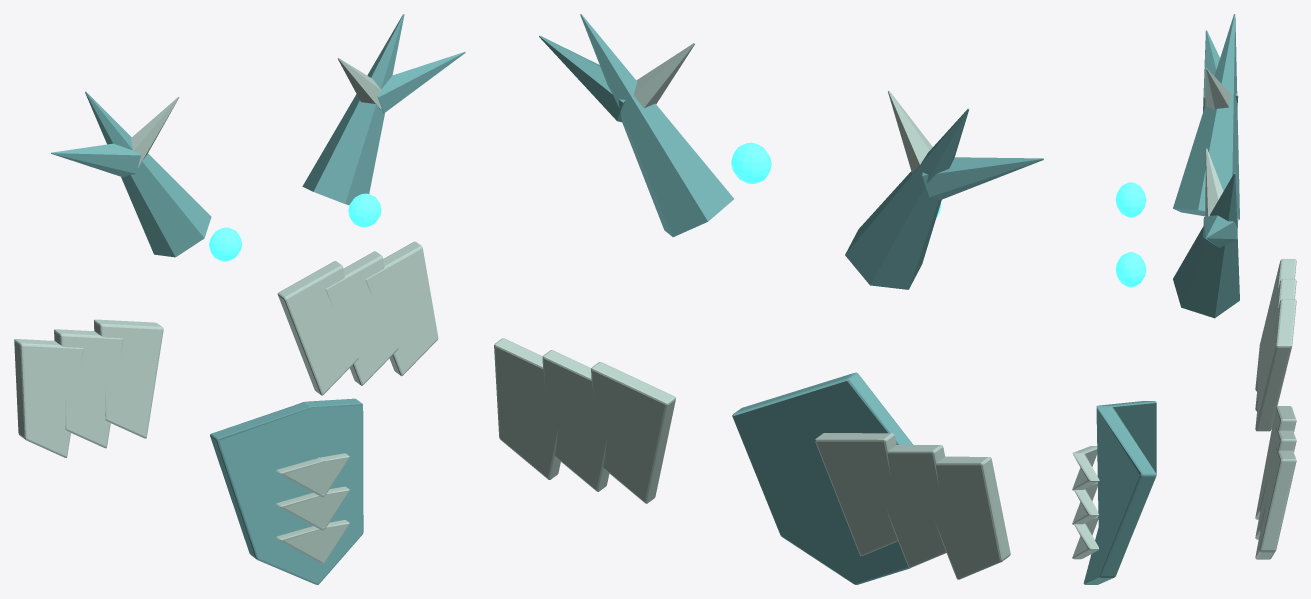
The model's file is abyss-regent-v1.glb.
3 renders of one model, left to right at view 1: azimuth 30°, elevation 25°; view 2: azimuth 150°, elevation 25°; view 3: azimuth 270°, elevation 25°, orthographic. The views are drawn at different scales.
Visible parts, largest first — view 1: Abyss breastplate, Antler trunk.001, Antler trunk, Tidal wing shell.003, Tidal wing shell.002, Tidal wing shell.005, Tidal wing shell, Tidal wing shell.004, Tidal wing shell.001, Antler fork, Abyss scale, Abyss scale.001 (+6 smaller); view 2: Abyss breastplate, Antler trunk.001, Antler trunk, Tidal wing shell.003, Tidal wing shell.002, Tidal wing shell, Tidal wing shell.005, Tidal wing shell.004, Tidal wing shell.001, Antler fork, Antler fork.001, Antler tine.001 (+2 smaller); view 3: Abyss breastplate, Antler trunk, Antler trunk.001, Tidal wing shell, Tidal wing shell.005, Tidal wing shell.003, Tidal wing shell.002, Antler fork.001, Tidal wing shell.001, Tidal wing shell.004, Sea pearl, Sea pearl.001 (+6 smaller).
Boxes of the visible parts, <box> form: Abyss breastplate: <box>210,398,363,584</box>; Antler trunk.001: <box>302,14,404,205</box>; Antler trunk: <box>85,91,211,257</box>; Tidal wing shell.003: <box>277,261,358,395</box>; Tidal wing shell.002: <box>14,339,83,457</box>; Tidal wing shell.005: <box>365,241,438,376</box>; Tidal wing shell: <box>94,319,163,438</box>; Tidal wing shell.004: <box>325,251,398,385</box>; Tidal wing shell.001: <box>54,329,123,448</box>; Antler fork: <box>51,143,140,177</box>; Abyss scale: <box>276,453,349,497</box>; Abyss scale.001: <box>276,486,349,530</box>; Abyss breastplate: <box>732,372,913,584</box>; Antler trunk.001: <box>580,14,733,237</box>; Antler trunk: <box>845,108,969,289</box>; Tidal wing shell.003: <box>591,362,675,503</box>; Tidal wing shell.002: <box>933,456,1010,579</box>; Tidal wing shell: <box>815,433,897,555</box>; Tidal wing shell.005: <box>494,338,560,479</box>; Tidal wing shell.004: <box>542,350,609,491</box>; Tidal wing shell.001: <box>885,445,946,567</box>; Antler fork: <box>922,157,1043,199</box>; Antler fork.001: <box>539,35,625,122</box>; Antler tine.001: <box>633,43,694,107</box>; Abyss breastplate: <box>1083,401,1156,584</box>; Antler trunk: <box>1173,14,1239,219</box>; Antler trunk.001: <box>1173,173,1239,318</box>; Tidal wing shell: <box>1255,299,1296,431</box>; Tidal wing shell.005: <box>1255,447,1296,559</box>; Tidal wing shell.003: <box>1255,406,1296,519</box>; Tidal wing shell.002: <box>1255,259,1296,391</box>; Antler fork.001: <box>1203,215,1238,247</box>; Tidal wing shell.001: <box>1255,279,1296,411</box>; Tidal wing shell.004: <box>1255,427,1296,539</box>; Sea pearl: <box>1115,182,1146,217</box>; Sea pearl.001: <box>1115,252,1146,287</box>.
Size of the model in its own units: 2.08 by 2.3 by 0.9513.
